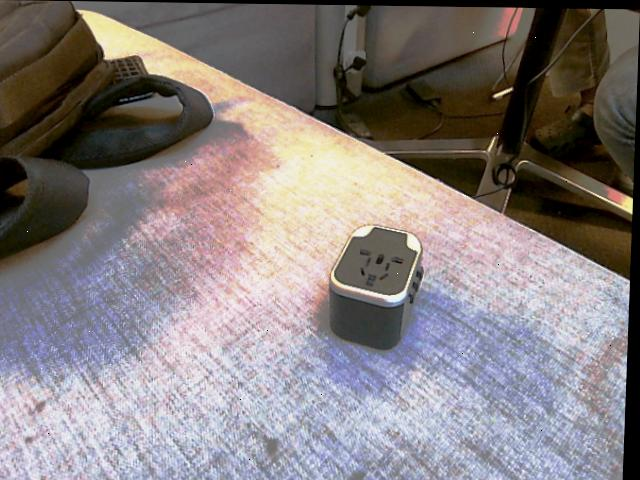adapter: (328, 222, 427, 349)
